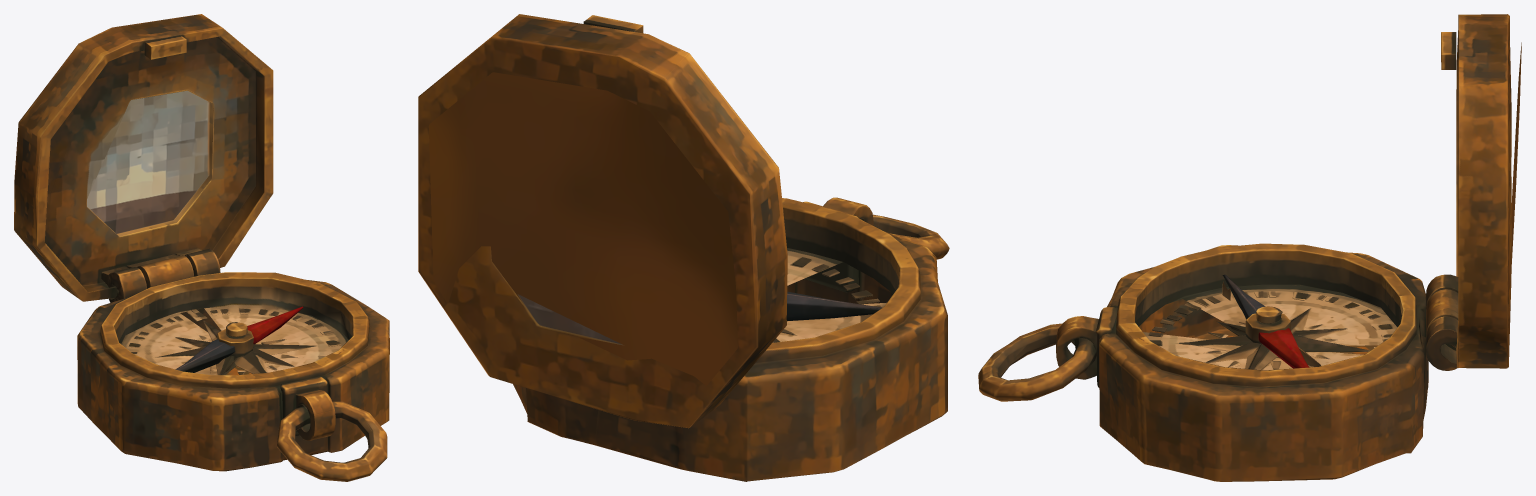
Rendered from compass_parts.glb.
3 views of the same model, side by side, from view 1: azimuth 30°, elevation 25°; view 2: azimuth 150°, elevation 25°; view 3: azimuth 270°, elevation 25° (orthographic). The views are drawn at different scales.
Parts seen in each view (by area): view 1: Lid, Body; view 2: Lid, Body; view 3: Body, Lid.
Part boxes in pixels (x1,y1,x2,y2): Lid: (14, 14, 273, 310); Body: (77, 259, 389, 481); Lid: (418, 14, 787, 427); Body: (507, 197, 949, 481); Body: (978, 243, 1457, 481); Lid: (1401, 14, 1521, 368).
Size of the model in its own units: 0.6475 by 0.7319 by 0.9735.
1 material, 1 textured.
